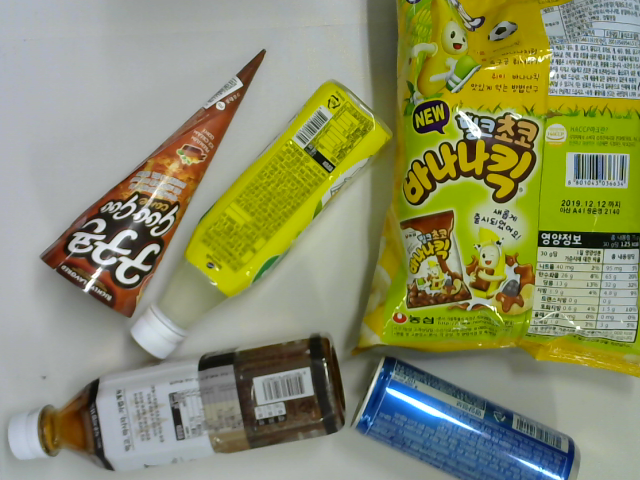Banana_Kick: (346, 1, 640, 382)
GooGoo_Cone_CVS: (39, 48, 267, 316)
Pepsi_Cola_Can_250ml: (348, 356, 583, 480)
Post-meal_recipe_W_tea_500ml: (9, 332, 346, 480)
Sunkist_Lemonaid_Pet: (124, 78, 394, 361)
